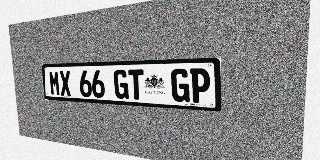6: (91, 70, 105, 98), (79, 70, 92, 97)
G: (171, 68, 190, 102), (113, 70, 129, 99)
M: (49, 71, 61, 96)
P: (190, 68, 210, 103)
T: (128, 69, 144, 100)
X: (59, 71, 71, 96)
